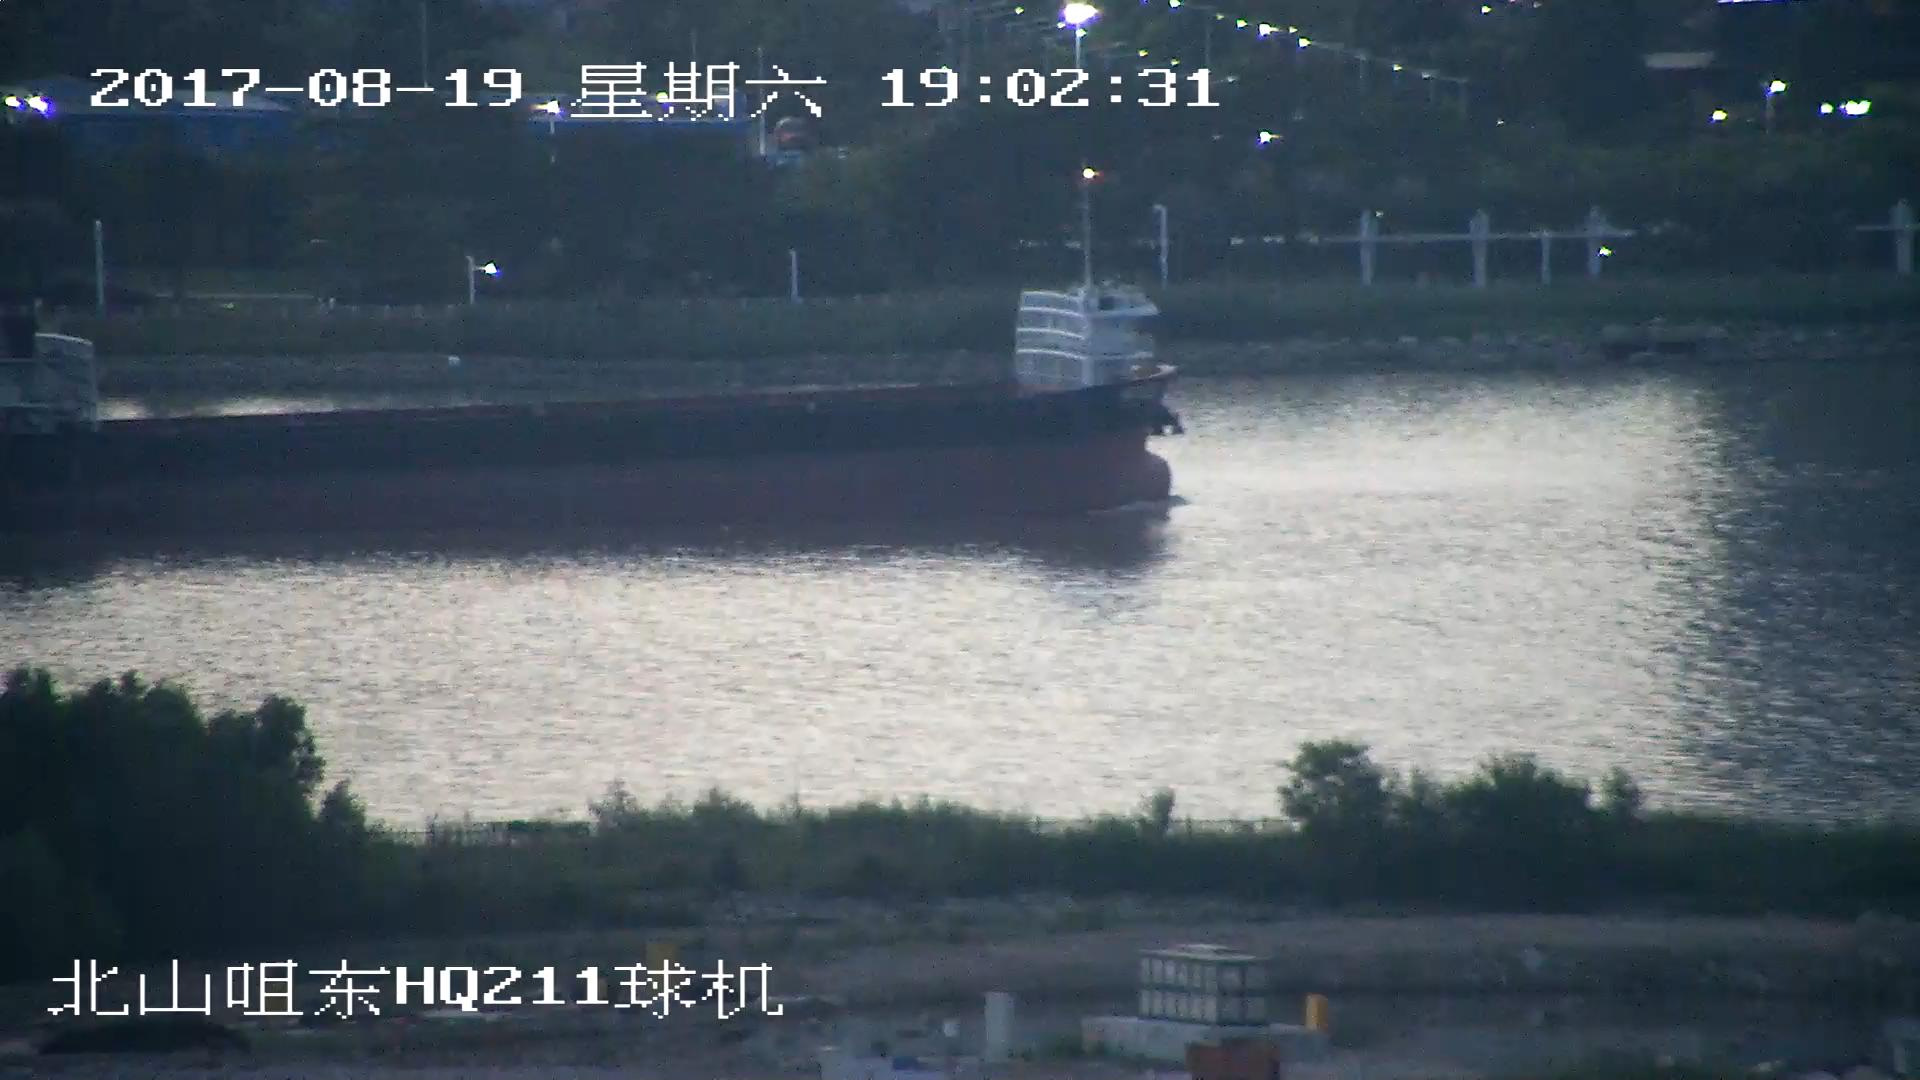general cargo ship: (1, 285, 1187, 530)
